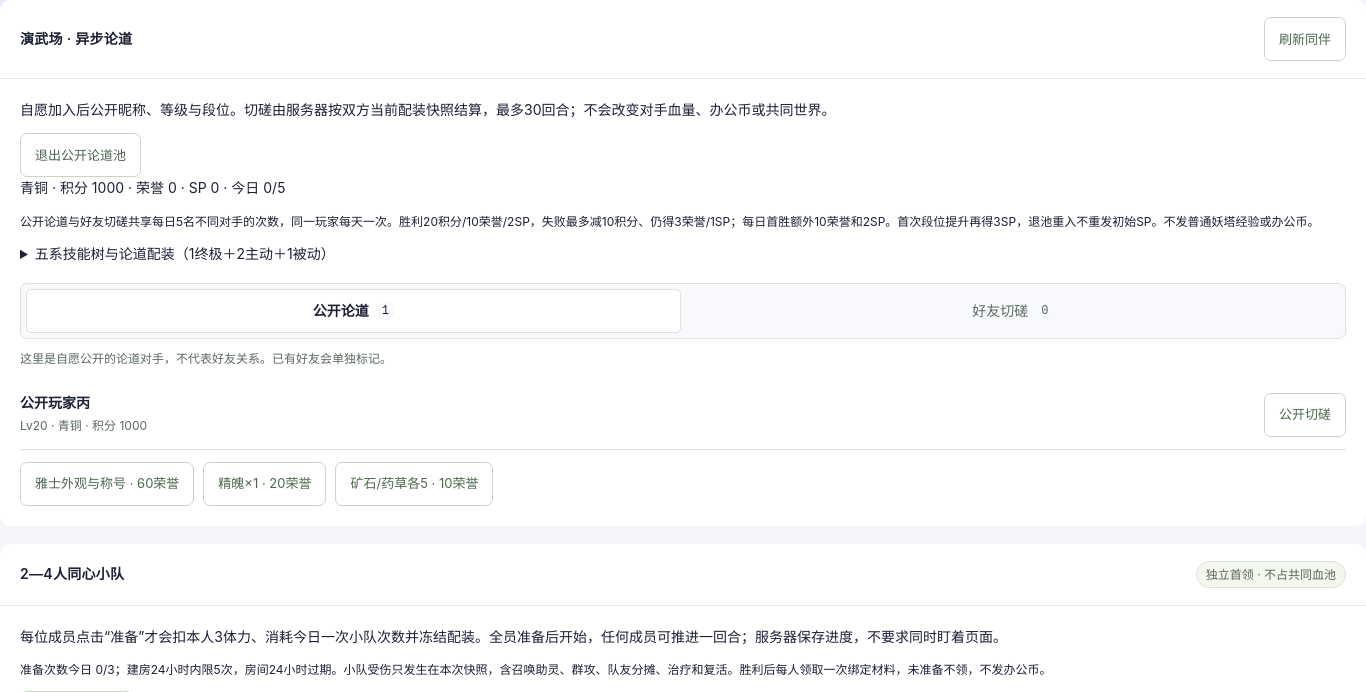
Test: Demon tower explicit social consent UI › does not reveal unjoined friend profiles and offers the existing friends page when empty
Expected: the text "公开玩家丙" is shown, x1=20 y1=394 x2=90 y2=412
Click the button "好友切磋 0": point(1013, 311) x1=686 y1=289 x2=1340 y2=333
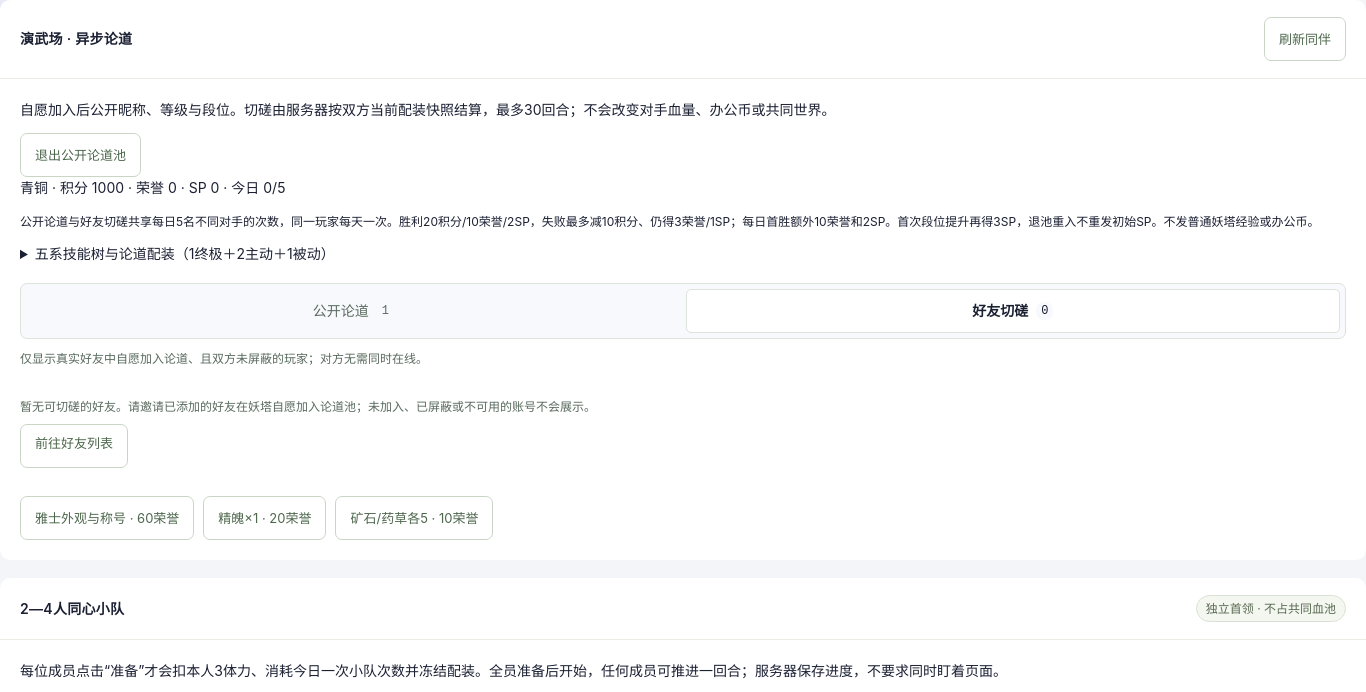
Expected: the text "暂无可切磋的好友。请邀请已添加的好友在妖塔自愿加入论道池；未加入、已屏蔽或不可用的账号不会展示。 前往好友列表" is shown, x1=20 y1=398 x2=596 y2=468
Expected: the text "公开玩家丙" is gone
